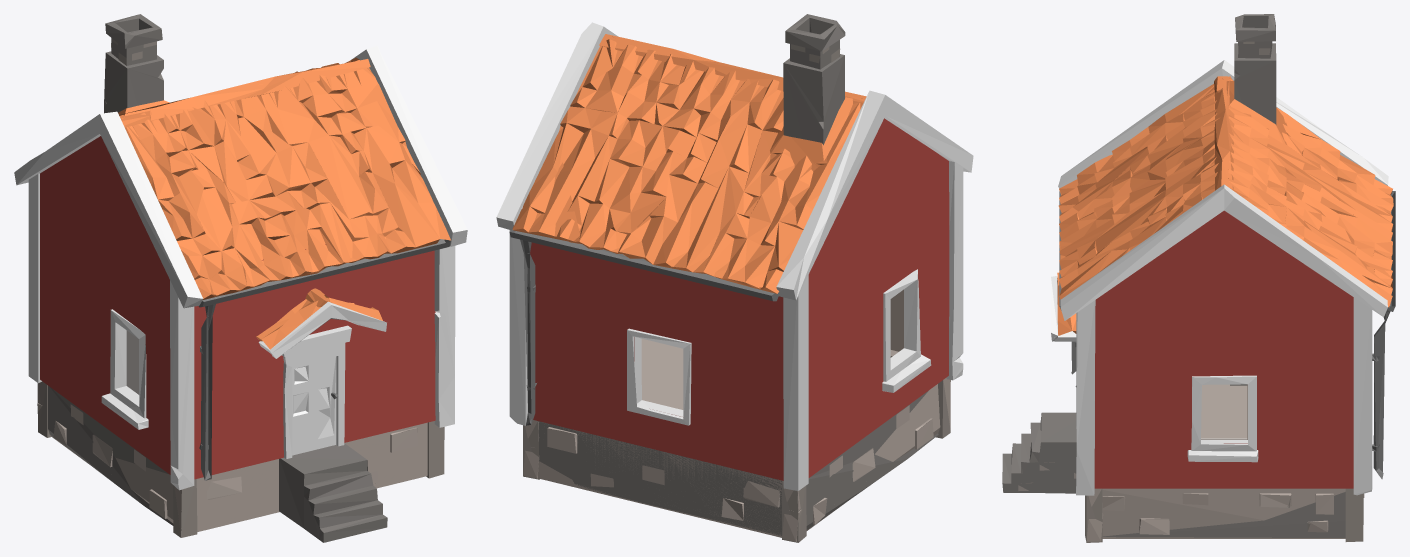
File: SM_House_01_LOD3.fbx
3 views of the same model, side by side, from view 1: azimuth 30°, elevation 25°; view 2: azimuth 150°, elevation 25°; view 3: azimuth 270°, elevation 25° (orthographic). The views are drawn at different scales.
Parts seen in each view (by area): view 1: House, Foundation, Door_01; view 2: House, Foundation; view 3: House, Foundation.
Boxes of the visible parts, x1,y1,x2,y2 form: House: (14, 14, 467, 542); Foundation: (37, 383, 428, 535); Door_01: (292, 356, 338, 455); House: (496, 14, 973, 542); Foundation: (523, 338, 950, 541); House: (1002, 14, 1395, 542); Foundation: (1086, 384, 1364, 541).
Size of what is drawn, in the model's own units: 817 by 1200 by 1022.
